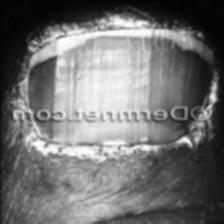Toxin: (15, 26, 216, 154)
